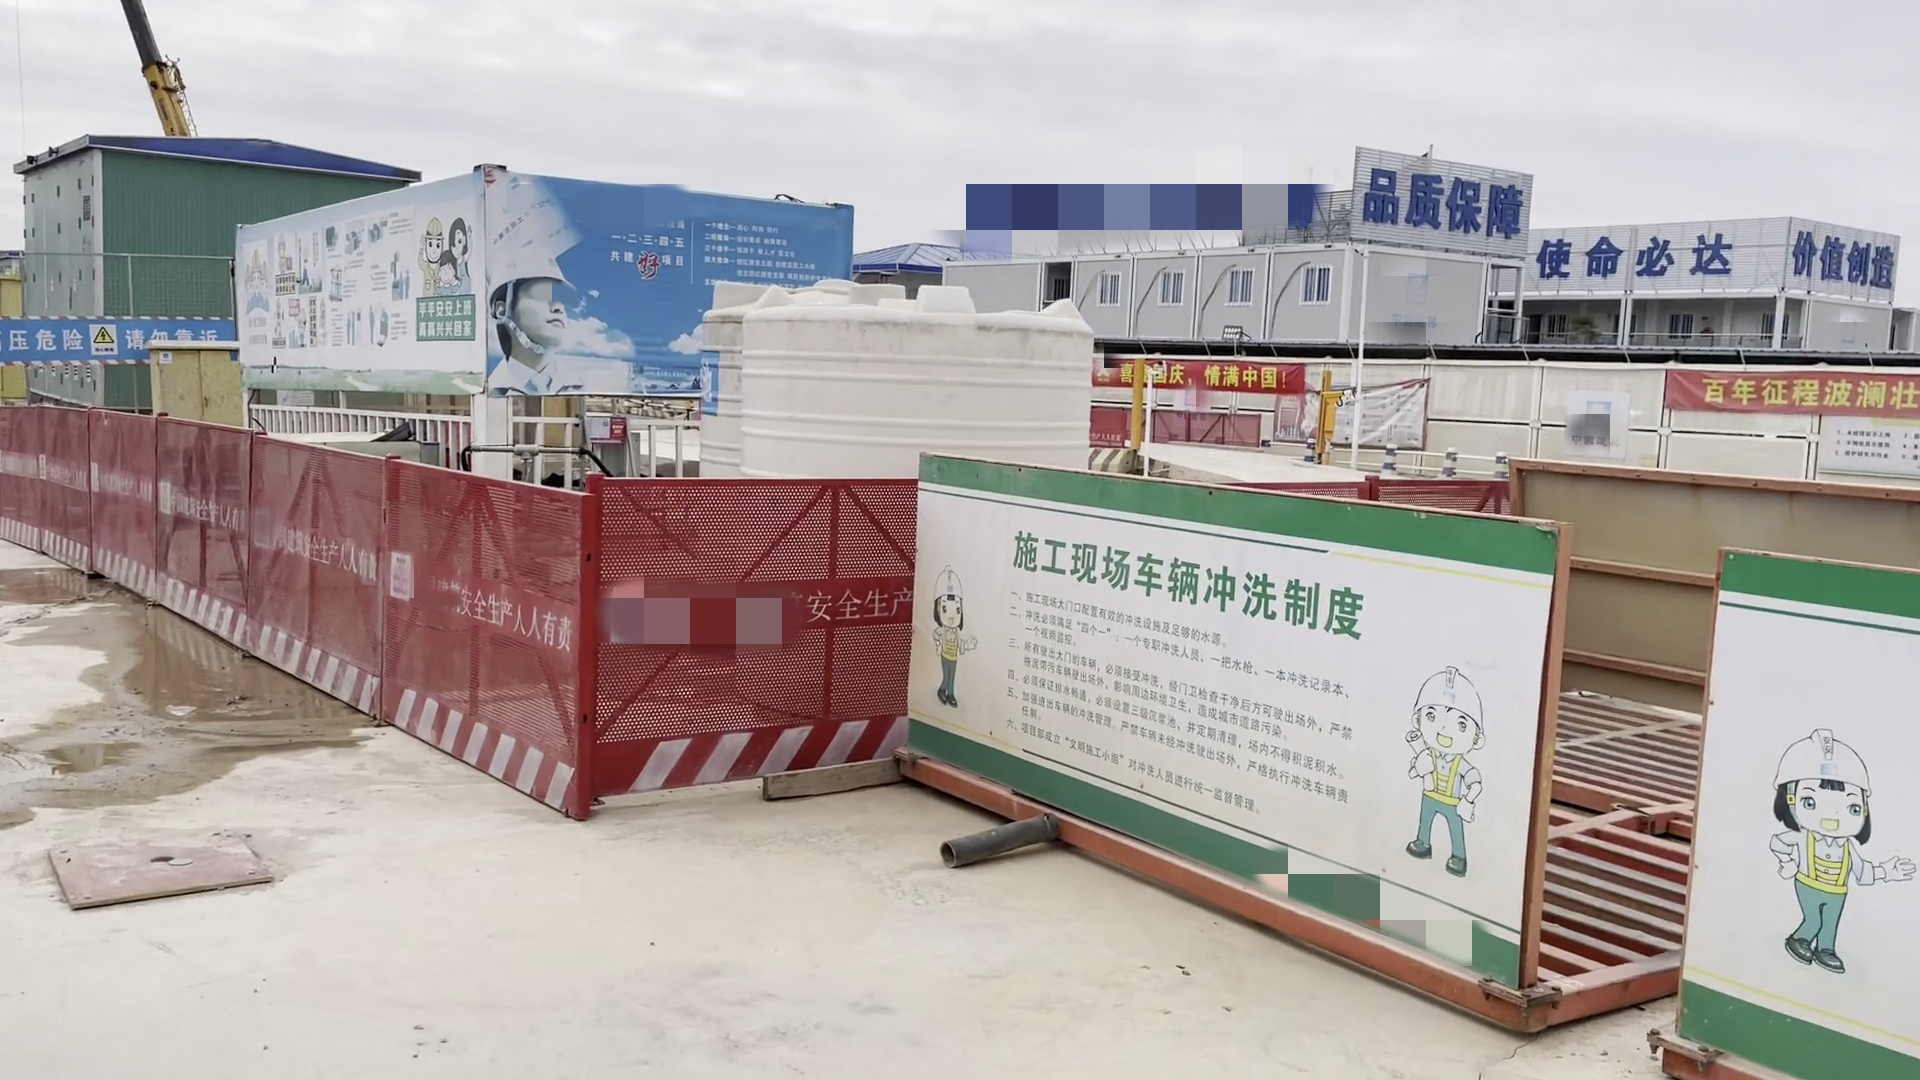ebox: (149, 340, 243, 429)
fence: (3, 406, 564, 825), (563, 468, 909, 775), (1091, 401, 1259, 458)
slogan: (1357, 158, 1516, 243), (1662, 375, 1920, 425), (1539, 243, 1735, 291), (1, 322, 228, 363), (1087, 359, 1298, 397), (1785, 229, 1892, 285), (415, 301, 472, 338)
